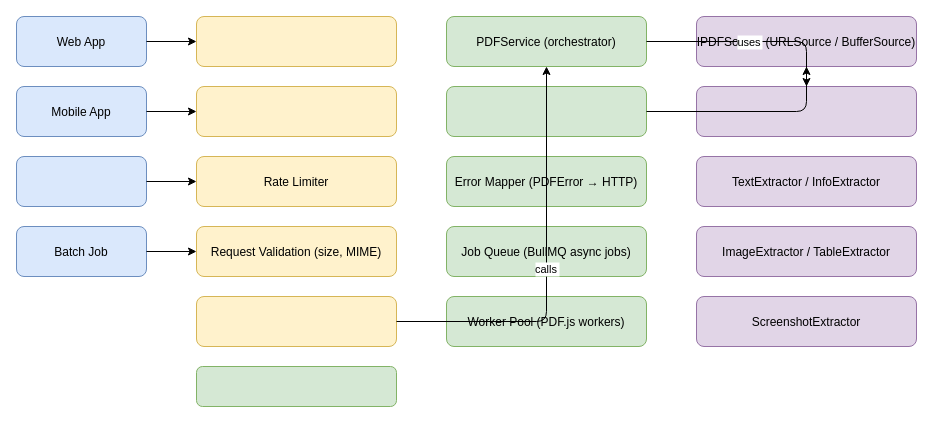
Image size: 933x423. Some labels were removed from this diagram. Each missing label, with the box of its shape:
Auth Middleware: (196, 86, 396, 136)
CLI (curl): (16, 156, 146, 206)
HTTP Server (Express/TLS/CORS): (196, 16, 396, 66)
IPDFSession (PDFSession): (696, 86, 916, 136)
Multipart File Handler: (196, 366, 396, 406)
Routers POST /extract/*, /screenshot: (196, 296, 396, 346)
Source Builder (URL/Buffer/base64): (446, 86, 646, 136)
